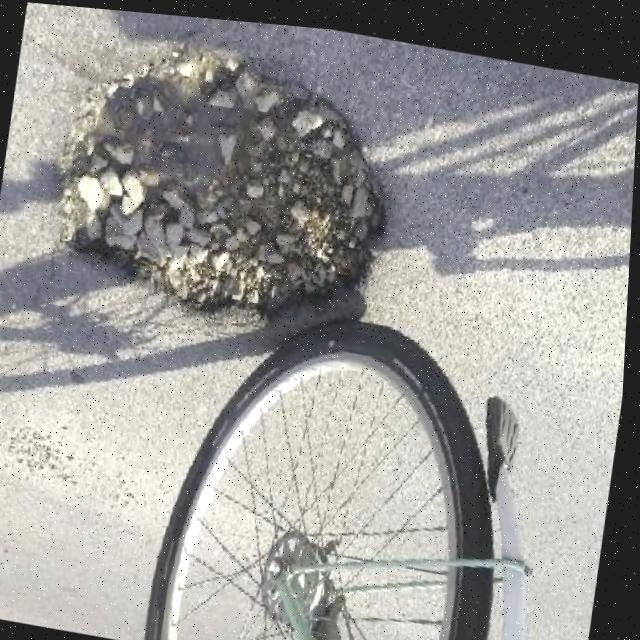pothole: (48, 11, 412, 348)
